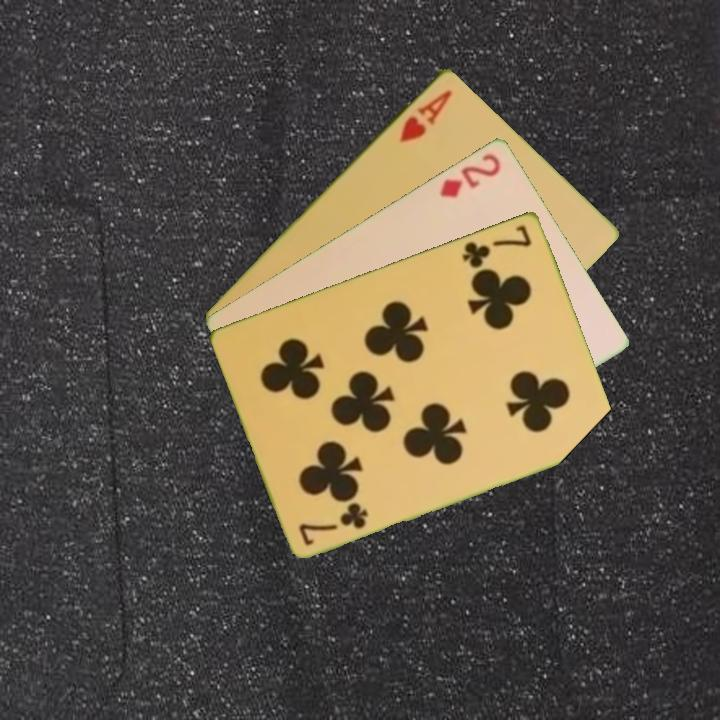2d: (436, 149, 504, 201)
7c: (458, 220, 535, 271), (295, 499, 372, 548)
Ah: (395, 85, 455, 145)
